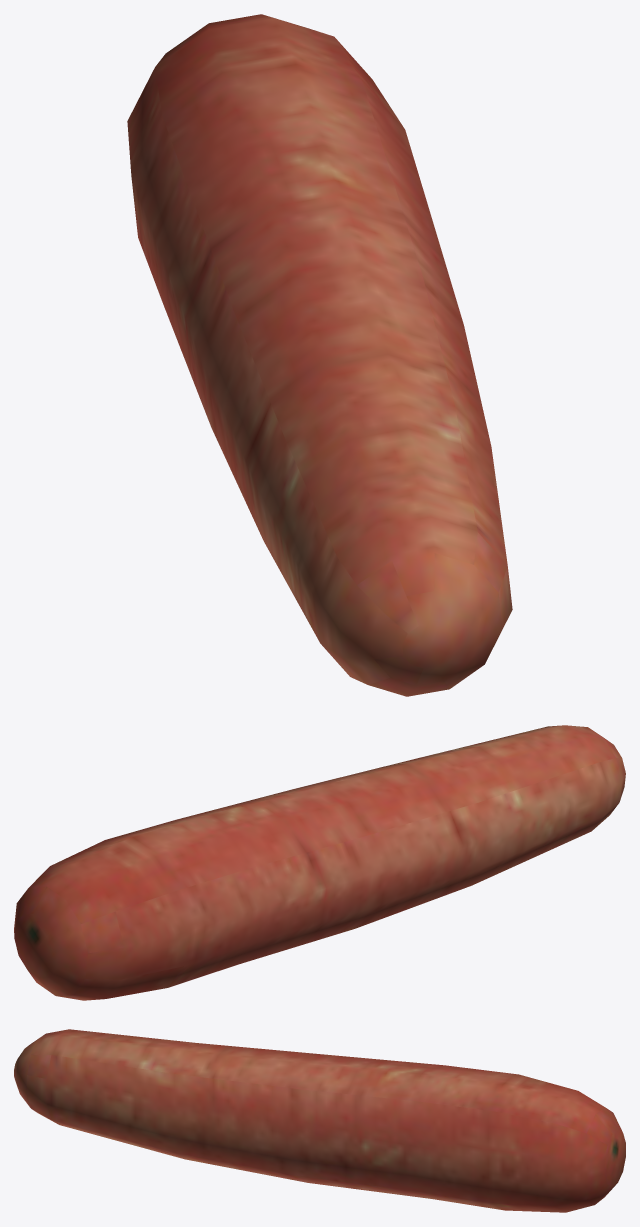
Rendered from SM_配餐室_水果蔬菜_19.fbx.
3 renders of one model, top to bottom at view 1: azimuth 30°, elevation 25°; view 2: azimuth 150°, elevation 25°; view 3: azimuth 270°, elevation 25°, orthographic. The views are drawn at different scales.
Visible parts, largest first — view 1: SM_配餐室_水果蔬菜_19; view 2: SM_配餐室_水果蔬菜_19; view 3: SM_配餐室_水果蔬菜_19.
Part boxes in pixels (<box>): SM_配餐室_水果蔬菜_19: <box>127,14,512,696</box>; SM_配餐室_水果蔬菜_19: <box>14,725,625,1000</box>; SM_配餐室_水果蔬菜_19: <box>14,1029,625,1212</box>.
Size of the model in its own units: 81.35 by 37.31 by 162.
